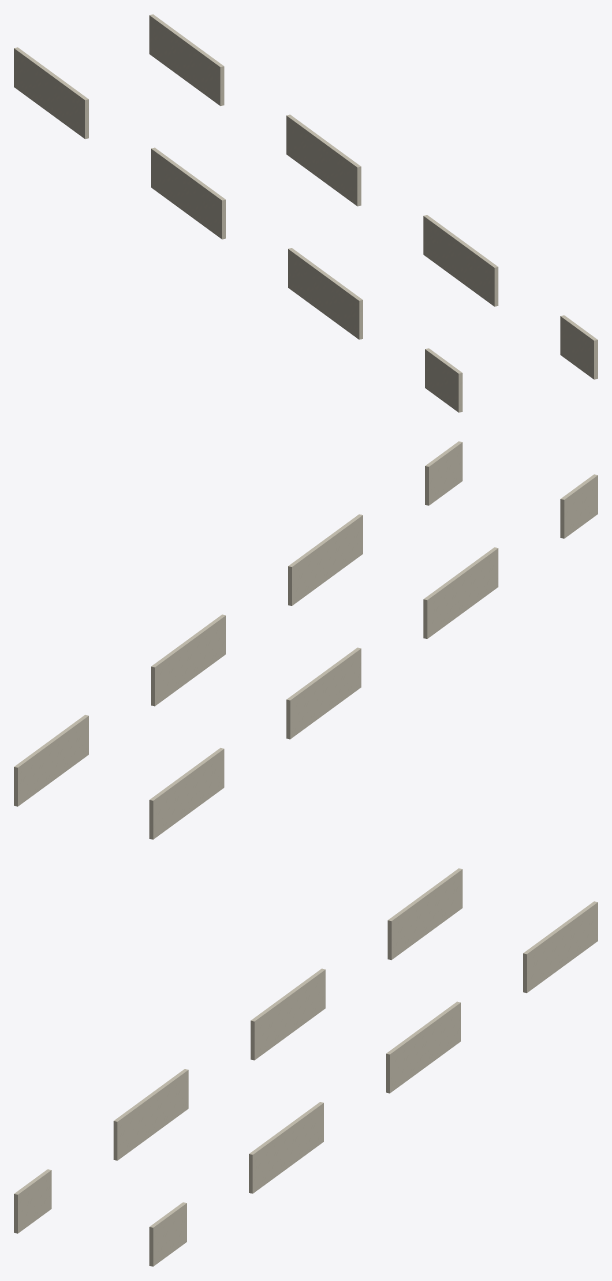
The model's file is D04_PORT_FORWARD_HOMES_FIFTH_GUARDS_r001.glb.
3 renders of one model, top to bottom at view 1: azimuth 30°, elevation 25°; view 2: azimuth 150°, elevation 25°; view 3: azimuth 330°, elevation 25°, orthographic.
Visible parts, largest first — view 1: D04H5_D04H4_D04NR_EastGuard_0_Successor_2_Remaining_1, D04H5_D04H4_D04NR_EastGuard_0_Successor_2_Remaining_2, D04H5_D04H4_D04NR_EastGuard_0_Successor_2_Remaining_0, D04H5_D04H4_D04NR_WestGuard_1_Successor_2_Remaining_1, D04H5_D04H4_D04NR_WestGuard_1_Successor_2_Remaining_2, D04H5_D04H4_D04NR_WestGuard_1_Successor_2_Remaining_0, D04H5_D04H4_D04NR_WestGuard_1_Successor_2_Remaining_3, D04H5_D04H4_D04NR_EastGuard_0_Successor_2_Remaining_3; view 2: D04H5_D04H4_D04NR_WestGuard_1_Successor_2_Remaining_1, D04H5_D04H4_D04NR_WestGuard_1_Successor_2_Remaining_2, D04H5_D04H4_D04NR_WestGuard_1_Successor_2_Remaining_0, D04H5_D04H4_D04NR_EastGuard_0_Successor_2_Remaining_1, D04H5_D04H4_D04NR_EastGuard_0_Successor_2_Remaining_2, D04H5_D04H4_D04NR_EastGuard_0_Successor_2_Remaining_0, D04H5_D04H4_D04NR_WestGuard_1_Successor_2_Remaining_3, D04H5_D04H4_D04NR_EastGuard_0_Successor_2_Remaining_3; view 3: D04H5_D04H4_D04NR_WestGuard_1_Successor_2_Remaining_1, D04H5_D04H4_D04NR_WestGuard_1_Successor_2_Remaining_2, D04H5_D04H4_D04NR_WestGuard_1_Successor_2_Remaining_0, D04H5_D04H4_D04NR_EastGuard_0_Successor_2_Remaining_1, D04H5_D04H4_D04NR_EastGuard_0_Successor_2_Remaining_2, D04H5_D04H4_D04NR_EastGuard_0_Successor_2_Remaining_0, D04H5_D04H4_D04NR_WestGuard_1_Successor_2_Remaining_3, D04H5_D04H4_D04NR_EastGuard_0_Successor_2_Remaining_3.
Boxes of the visible parts, left/top/right/bottom form: D04H5_D04H4_D04NR_EastGuard_0_Successor_2_Remaining_1: left=286, top=114, right=361, bottom=206; D04H5_D04H4_D04NR_EastGuard_0_Successor_2_Remaining_2: left=423, top=215, right=498, bottom=306; D04H5_D04H4_D04NR_EastGuard_0_Successor_2_Remaining_0: left=149, top=14, right=224, bottom=105; D04H5_D04H4_D04NR_WestGuard_1_Successor_2_Remaining_1: left=151, top=147, right=225, bottom=239; D04H5_D04H4_D04NR_WestGuard_1_Successor_2_Remaining_2: left=288, top=248, right=362, bottom=339; D04H5_D04H4_D04NR_WestGuard_1_Successor_2_Remaining_0: left=14, top=47, right=88, bottom=138; D04H5_D04H4_D04NR_WestGuard_1_Successor_2_Remaining_3: left=425, top=348, right=462, bottom=412; D04H5_D04H4_D04NR_EastGuard_0_Successor_2_Remaining_3: left=560, top=315, right=597, bottom=379; D04H5_D04H4_D04NR_WestGuard_1_Successor_2_Remaining_1: left=286, top=647, right=361, bottom=739; D04H5_D04H4_D04NR_WestGuard_1_Successor_2_Remaining_2: left=423, top=547, right=498, bottom=638; D04H5_D04H4_D04NR_WestGuard_1_Successor_2_Remaining_0: left=149, top=748, right=224, bottom=839; D04H5_D04H4_D04NR_EastGuard_0_Successor_2_Remaining_1: left=151, top=614, right=225, bottom=706; D04H5_D04H4_D04NR_EastGuard_0_Successor_2_Remaining_2: left=288, top=514, right=362, bottom=605; D04H5_D04H4_D04NR_EastGuard_0_Successor_2_Remaining_0: left=14, top=715, right=88, bottom=806; D04H5_D04H4_D04NR_WestGuard_1_Successor_2_Remaining_3: left=560, top=474, right=597, bottom=538; D04H5_D04H4_D04NR_EastGuard_0_Successor_2_Remaining_3: left=425, top=441, right=462, bottom=505; D04H5_D04H4_D04NR_WestGuard_1_Successor_2_Remaining_1: left=250, top=968, right=325, bottom=1060; D04H5_D04H4_D04NR_WestGuard_1_Successor_2_Remaining_2: left=113, top=1069, right=188, bottom=1160; D04H5_D04H4_D04NR_WestGuard_1_Successor_2_Remaining_0: left=387, top=868, right=462, bottom=959; D04H5_D04H4_D04NR_EastGuard_0_Successor_2_Remaining_1: left=386, top=1001, right=460, bottom=1093; D04H5_D04H4_D04NR_EastGuard_0_Successor_2_Remaining_2: left=249, top=1102, right=323, bottom=1193; D04H5_D04H4_D04NR_EastGuard_0_Successor_2_Remaining_0: left=523, top=901, right=597, bottom=992; D04H5_D04H4_D04NR_WestGuard_1_Successor_2_Remaining_3: left=14, top=1169, right=51, bottom=1233; D04H5_D04H4_D04NR_EastGuard_0_Successor_2_Remaining_3: left=149, top=1202, right=186, bottom=1266.
Size of the model in its own units: 4.34 by 1.16 by 24.02.
Materials: 1 (1 with a texture image).
